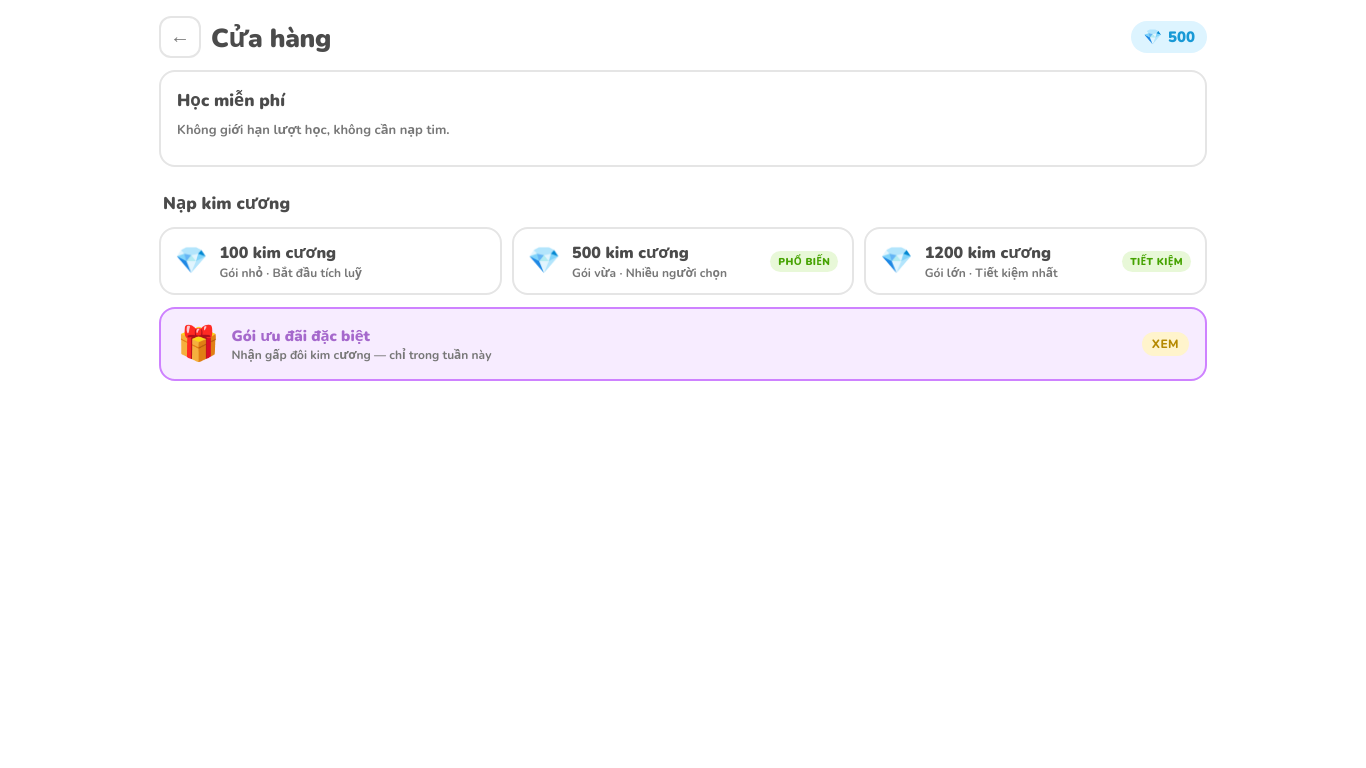
Scenario: ShopScreen — modal "Tính năng demo" › giữ focus trong modal và đóng bằng Escape
Step 1. Click the button with class "offer-card" → (198, 344), box [159, 307, 1207, 381]
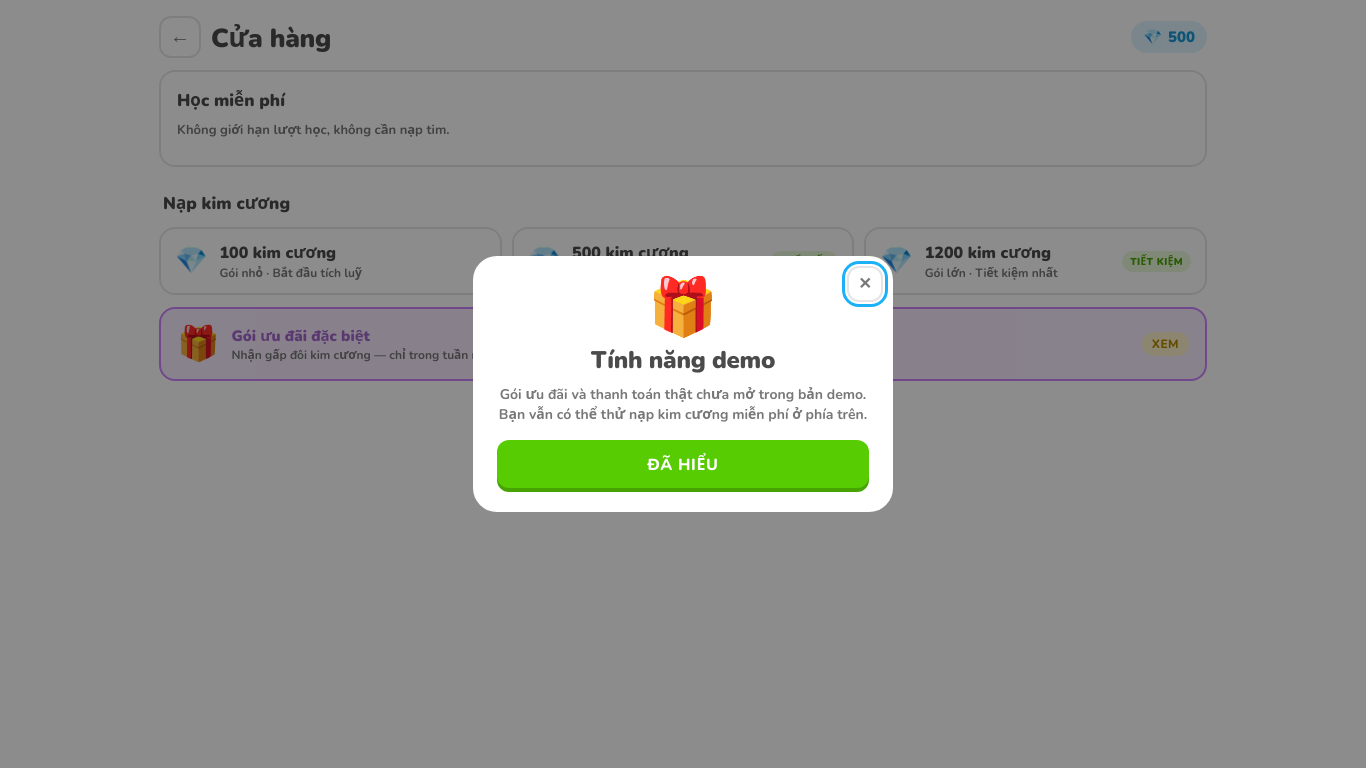
Step 2. Press Escape
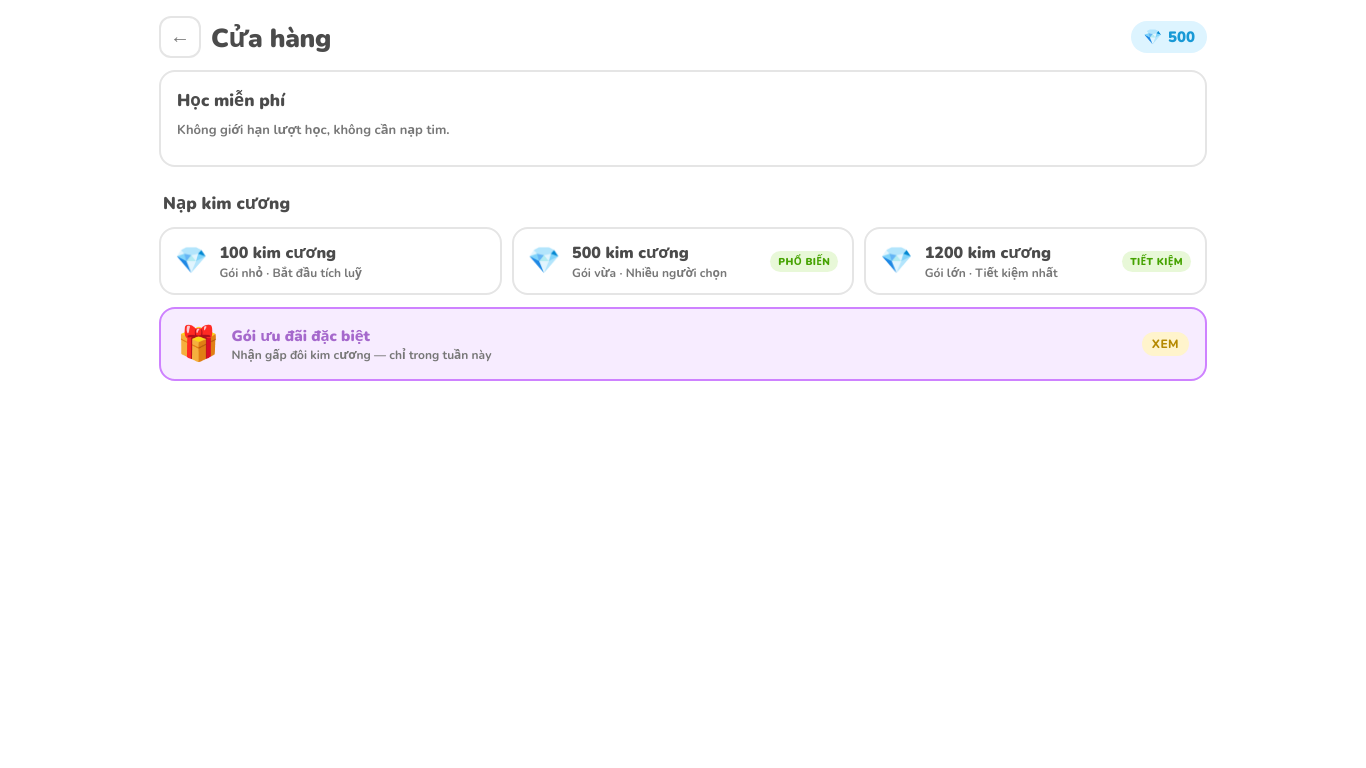
Now the dialog is gone
